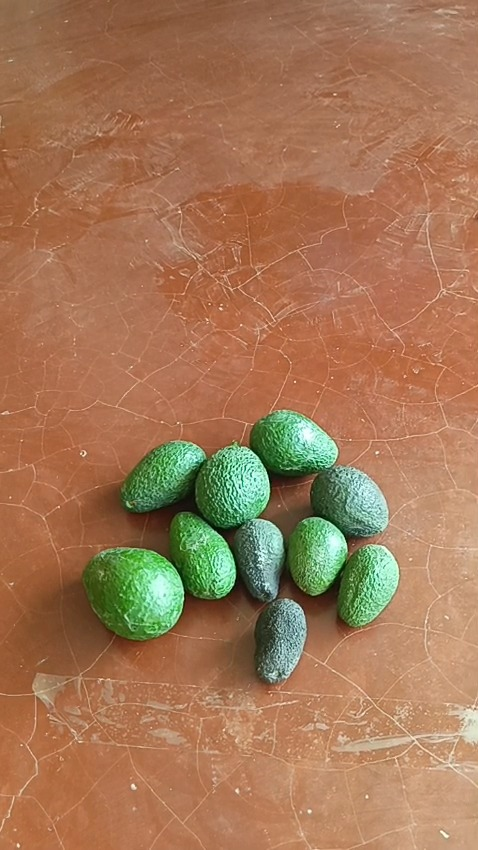Primera: (82, 547, 186, 640), (195, 442, 271, 528), (249, 409, 338, 476)
Segunda: (119, 439, 206, 512), (309, 464, 389, 538), (168, 510, 235, 598)
Tercera: (336, 544, 399, 627), (286, 516, 347, 595), (253, 596, 307, 683), (231, 518, 285, 602)
